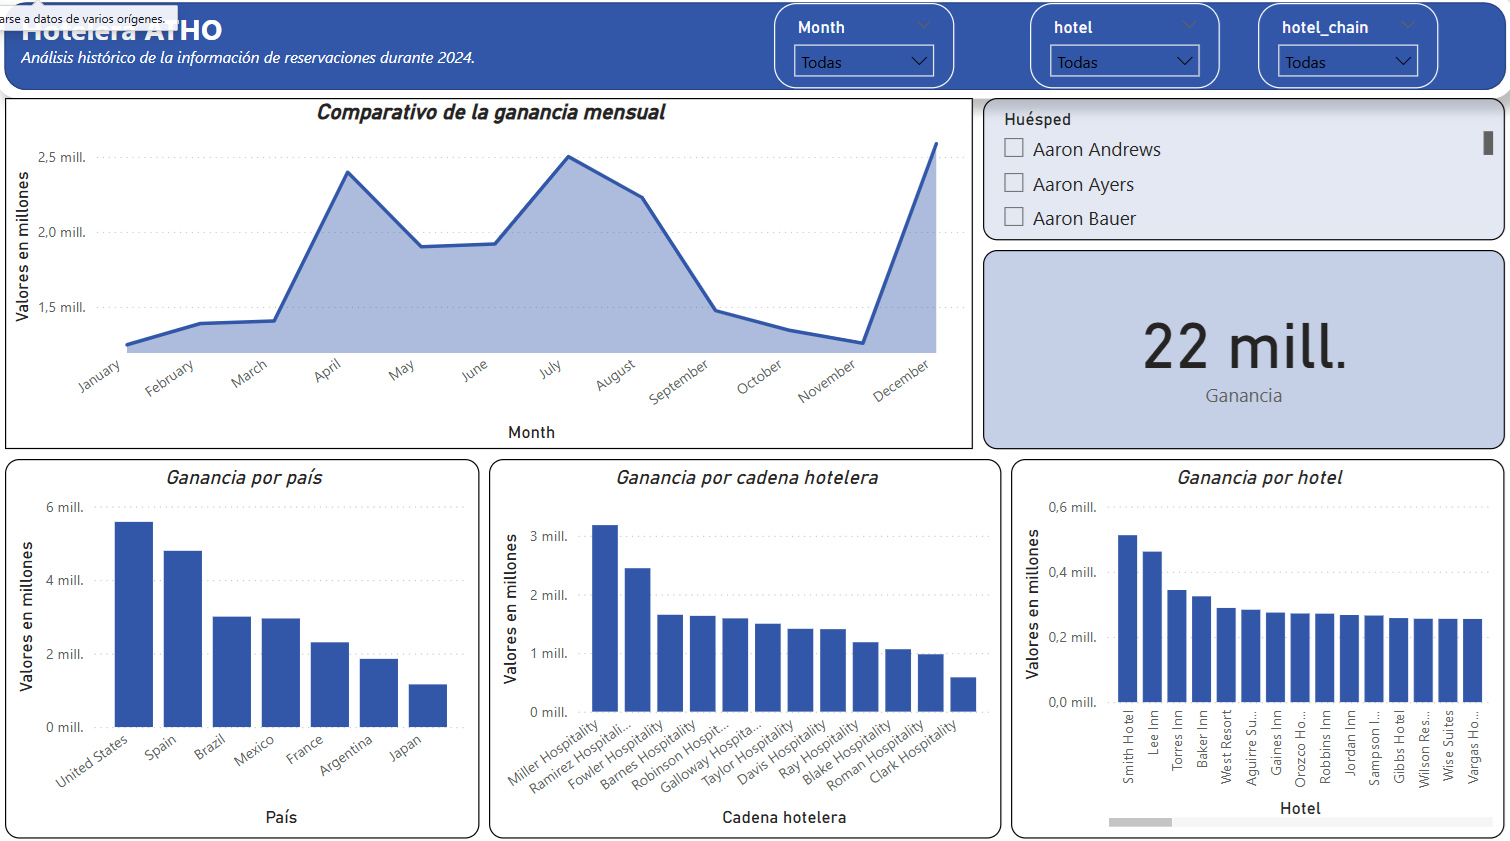

Layout of this report page (visuals, bound fields, positions):
{"tool":"powerbi","page":{"name":"Página 1","canvas":[1280,720],"ordinal":0},"visuals":[{"type":"shape","box":[0,0,1280,88],"z":0},{"type":"textbox","box":[16,8,456,72],"z":2000},{"type":"card","fields":{"Values":["dashboard.hotel_amount"]},"box":[832,216,440,168],"z":2001},{"type":"clusteredColumnChart","title":"Ganancia por país","fields":{"Category":["dashboard.country"],"Y":["dashboard.hotel_amount"]},"box":[8,392,400,320],"z":2002},{"type":"stackedAreaChart","title":"Comparativo de la ganancia mensual","fields":{"Category":["dashboard.check_in_date.Variación.Date Hierarchy.Month"],"Y":["dashboard.hotel_amount"]},"box":[8,88,816,296],"z":2003},{"type":"clusteredColumnChart","title":"Ganancia por cadena hotelera","fields":{"Category":["dashboard.hotel_chain"],"Y":["dashboard.hotel_amount"]},"box":[416,392,432,320],"z":2005},{"type":"slicer","fields":{"Values":["dashboard.check_in_date.Variación.Date Hierarchy.Month"]},"box":[656,8,152,72],"z":2006},{"type":"clusteredColumnChart","title":"Ganancia por hotel","fields":{"Category":["dashboard.hotel"],"Y":["dashboard.hotel_amount"]},"box":[856,392,416,320],"z":2007},{"type":"slicer","fields":{"Values":["dashboard.guest_full_name"]},"box":[832,88,440,120],"z":2008},{"type":"slicer","fields":{"Values":["dashboard.hotel_chain"]},"box":[1064,8,152,72],"z":2010},{"type":"slicer","fields":{"Values":["dashboard.hotel"]},"box":[872,8,160,72],"z":2011}]}

Visuals, with their boxes in screenshot pixels (x1, y1, x2, y2):
shape: (left=0, top=0, right=1509, bottom=89)
textbox: (left=7, top=0, right=552, bottom=80)
card - dashboard.hotel_amount: (left=982, top=242, right=1508, bottom=443)
"Ganancia por país" clusteredColumnChart: (left=0, top=453, right=476, bottom=835)
"Comparativo de la ganancia mensual" stackedAreaChart: (left=0, top=89, right=973, bottom=443)
"Ganancia por cadena hotelera" clusteredColumnChart: (left=485, top=453, right=1002, bottom=835)
slicer - dashboard.check_in_date.Variación.Date Hierarchy.Month: (left=772, top=0, right=954, bottom=80)
"Ganancia por hotel" clusteredColumnChart: (left=1011, top=453, right=1508, bottom=835)
slicer - dashboard.guest_full_name: (left=982, top=89, right=1508, bottom=233)
slicer - dashboard.hotel_chain: (left=1260, top=0, right=1441, bottom=80)
slicer - dashboard.hotel: (left=1030, top=0, right=1221, bottom=80)
